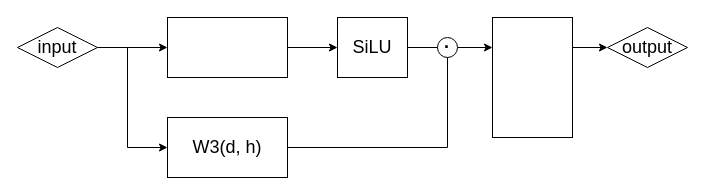
The diagram is 705 pixels wide and 195 high, and some of its shapes have lost their labels. The shapes that lost their labels are listed below. From the top down, each one's centre as x and y in pixels, then its label:
the point at 227,47: W1(d, h)
the point at 532,77: W2(h, d)
